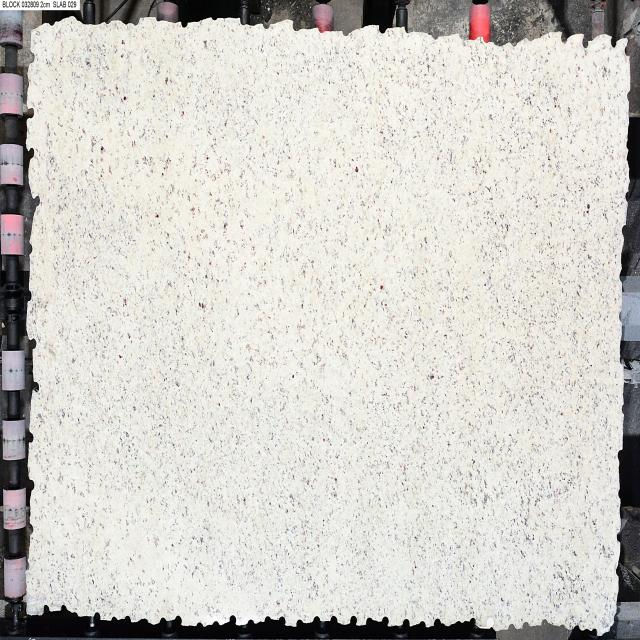chapa: (28, 20, 629, 633)
veio: (29, 379, 41, 396), (579, 32, 589, 52), (31, 193, 42, 210), (26, 145, 36, 163), (173, 611, 182, 630), (26, 104, 36, 120), (28, 336, 38, 352), (228, 611, 237, 627), (279, 614, 288, 630), (609, 34, 617, 50), (92, 610, 101, 624), (401, 616, 410, 630), (349, 612, 357, 626), (59, 603, 68, 615), (42, 602, 49, 616), (382, 616, 389, 627)
